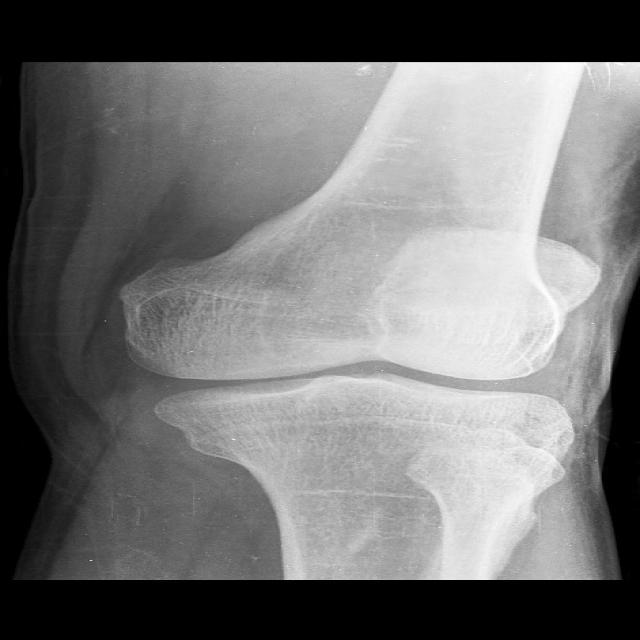osteo: (109, 255, 579, 439)
